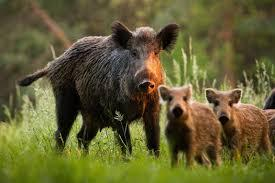wildboar: (17, 19, 181, 160), (158, 83, 222, 170), (206, 88, 273, 166)
